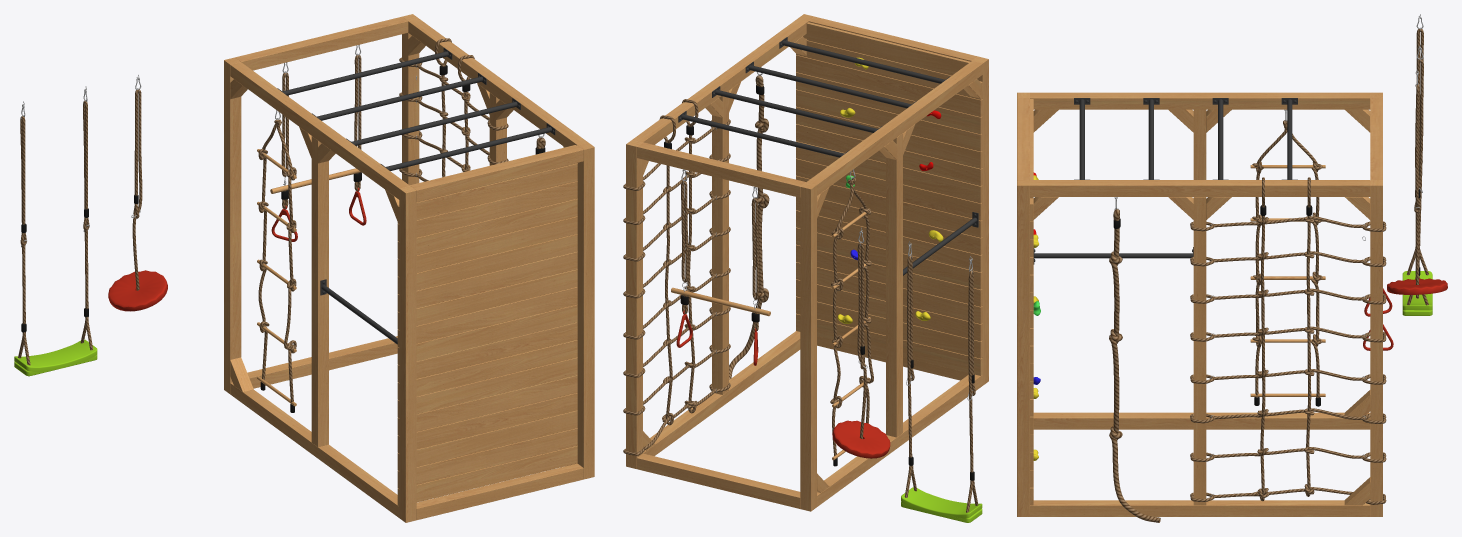
File: wooden-boyz-laura.fbx
The picture shows the model from 3 angles, left to right: view 1: azimuth 30°, elevation 25°; view 2: azimuth 150°, elevation 25°; view 3: azimuth 270°, elevation 25°; orthographic projection. The views are drawn at different scales.
Visible parts, largest first — view 1: laura, swing2, swing3; view 2: laura, swing2, swing3; view 3: laura, swing2, swing3.
Part boxes in pixels (<box>): laura: <box>224,14,594,522</box>; swing2: <box>14,86,97,376</box>; swing3: <box>108,74,167,311</box>; laura: <box>623,14,988,511</box>; swing2: <box>901,241,982,522</box>; swing3: <box>832,228,890,458</box>; laura: <box>1017,92,1393,522</box>; swing2: <box>1402,14,1432,315</box>; swing3: <box>1387,70,1447,298</box>.
Bounding box in the file's own units: 249 × 203 × 235.
16 materials, 3 textured.
